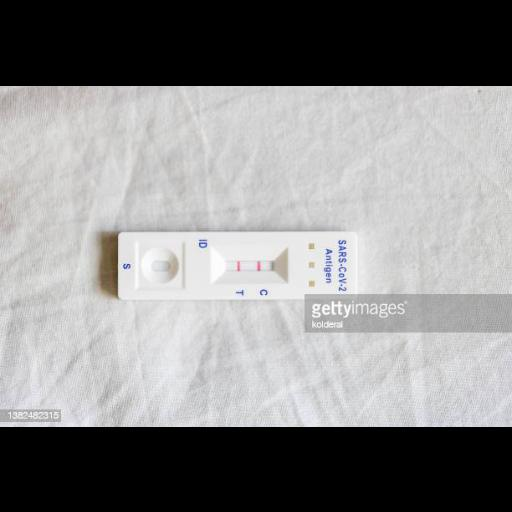Pos: (118, 230, 356, 298)
